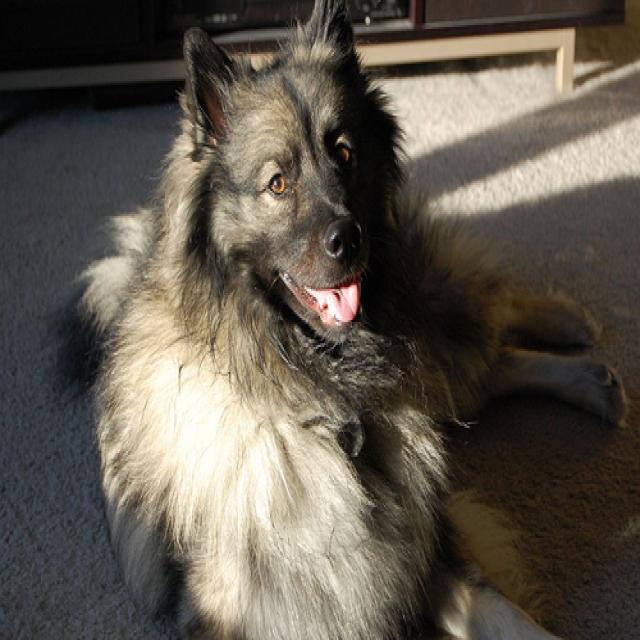dog-keeshond: (45, 2, 636, 636)
